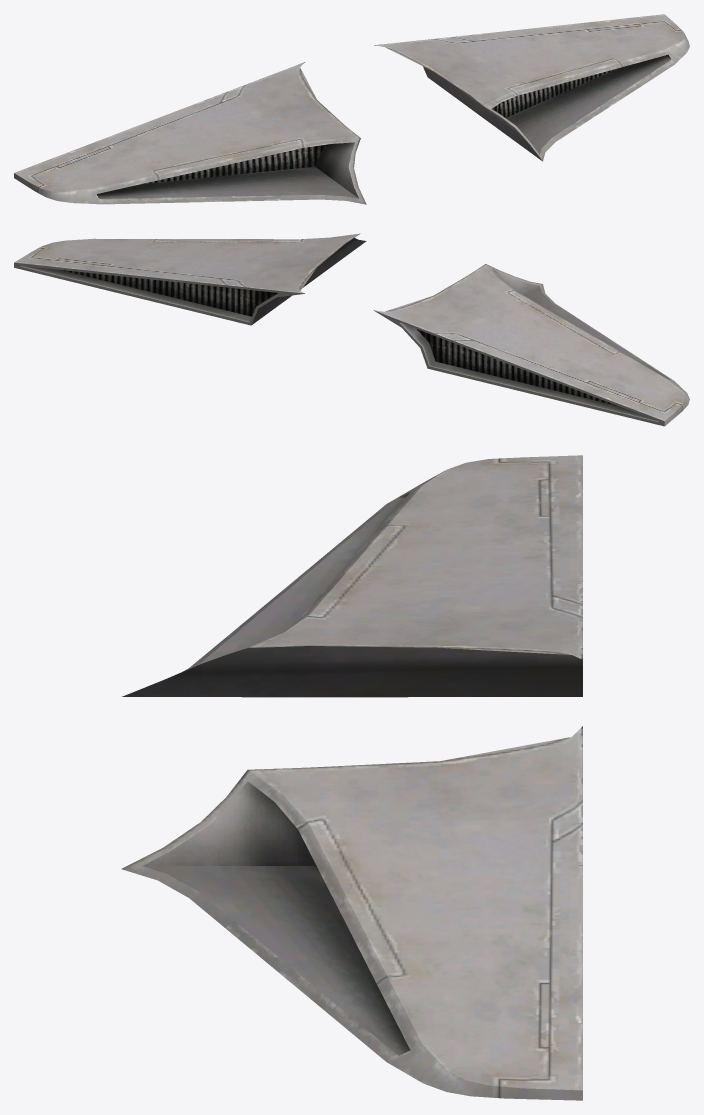
File: hutt_fighter_heavy_struct_s01_l0.fbx
3 views of the same model, one above another, from view 1: azimuth 30°, elevation 25°; view 2: azimuth 150°, elevation 25°; view 3: azimuth 270°, elevation 25° (orthographic). The views are drawn at different scales.
Parts seen in each view (by area): view 1: mesh_node; view 2: mesh_node; view 3: mesh_node.
Part boxes in pixels (left/top/right/bottom): mesh_node: left=14, top=14, right=689, bottom=204; mesh_node: left=14, top=233, right=689, bottom=426; mesh_node: left=121, top=455, right=582, bottom=1100.
Size of the model in its own units: 28.24 by 1.87 by 8.68.
